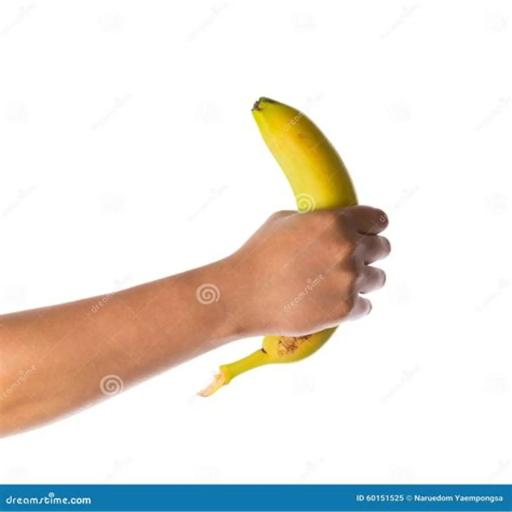banana: (253, 98, 357, 211)
